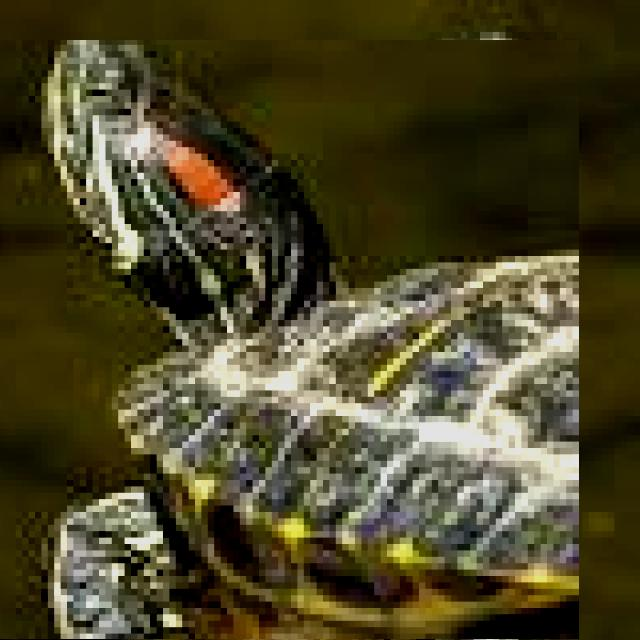Sea turtle: (0, 40, 579, 639)
